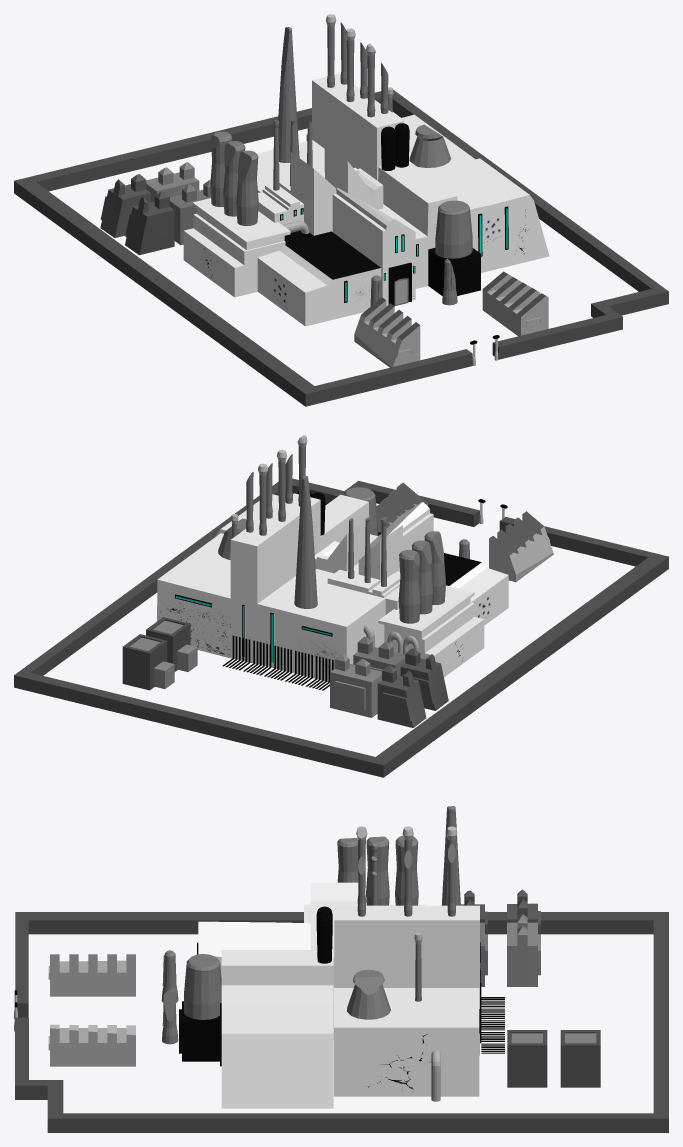
Rendered from SM_Prop_Factory.fbx.
3 renders of one model, top to bottom at view 1: azimuth 30°, elevation 25°; view 2: azimuth 150°, elevation 25°; view 3: azimuth 270°, elevation 25°, orthographic. The views are drawn at different scales.
Visible parts, largest first — view 1: SM_Prop_Factory; view 2: SM_Prop_Factory; view 3: SM_Prop_Factory.
Part boxes in pixels (x1=…): SM_Prop_Factory: x1=14, y1=14, x2=668, y2=406; SM_Prop_Factory: x1=14, y1=435, x2=668, y2=777; SM_Prop_Factory: x1=14, y1=806, x2=668, y2=1132.
Size of the model in its own units: 3042 by 1500 by 4075.
